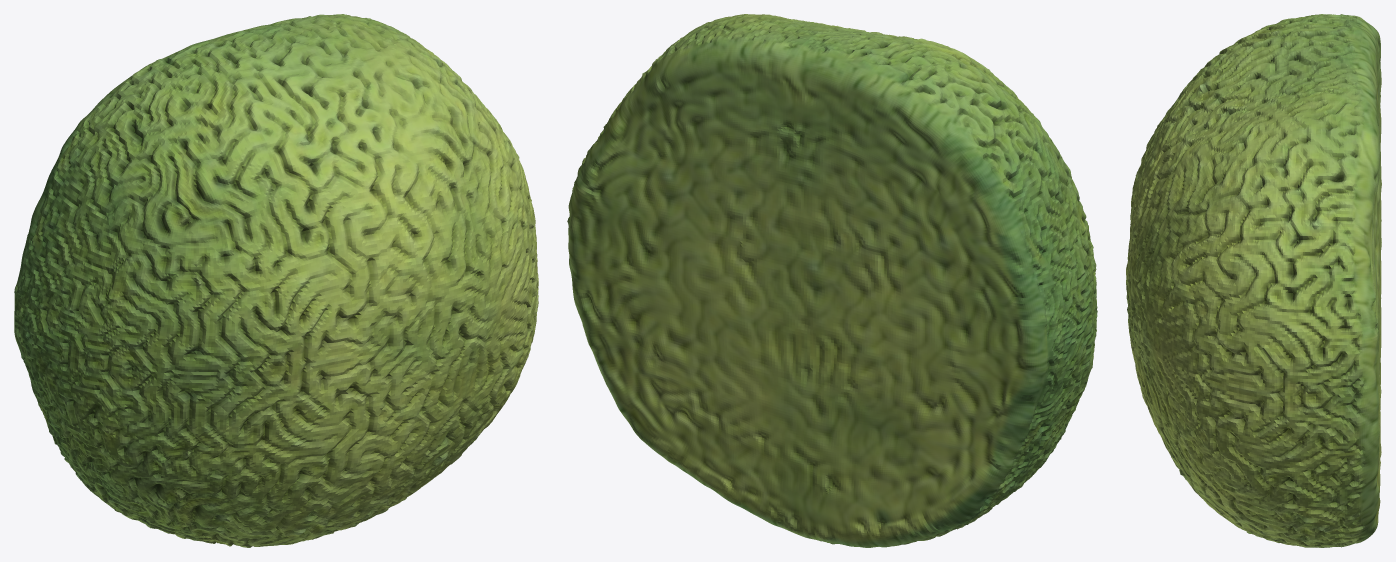
The model's file is 20941_Brain_Coral_v1_NEW1.obj.
3 views of the same model, side by side, from view 1: azimuth 30°, elevation 25°; view 2: azimuth 150°, elevation 25°; view 3: azimuth 270°, elevation 25° (orthographic). The views are drawn at different scales.
Parts seen in each view (by area): view 1: 20941_Brain_Coral_v1; view 2: 20941_Brain_Coral_v1; view 3: 20941_Brain_Coral_v1.
Part boxes in pixels (<box>): 20941_Brain_Coral_v1: <box>14,14,538,547</box>; 20941_Brain_Coral_v1: <box>567,14,1097,547</box>; 20941_Brain_Coral_v1: <box>1126,14,1381,547</box>.
Size of the model in its own units: 19.55 by 18.86 by 9.31.
1 material, 1 textured.
